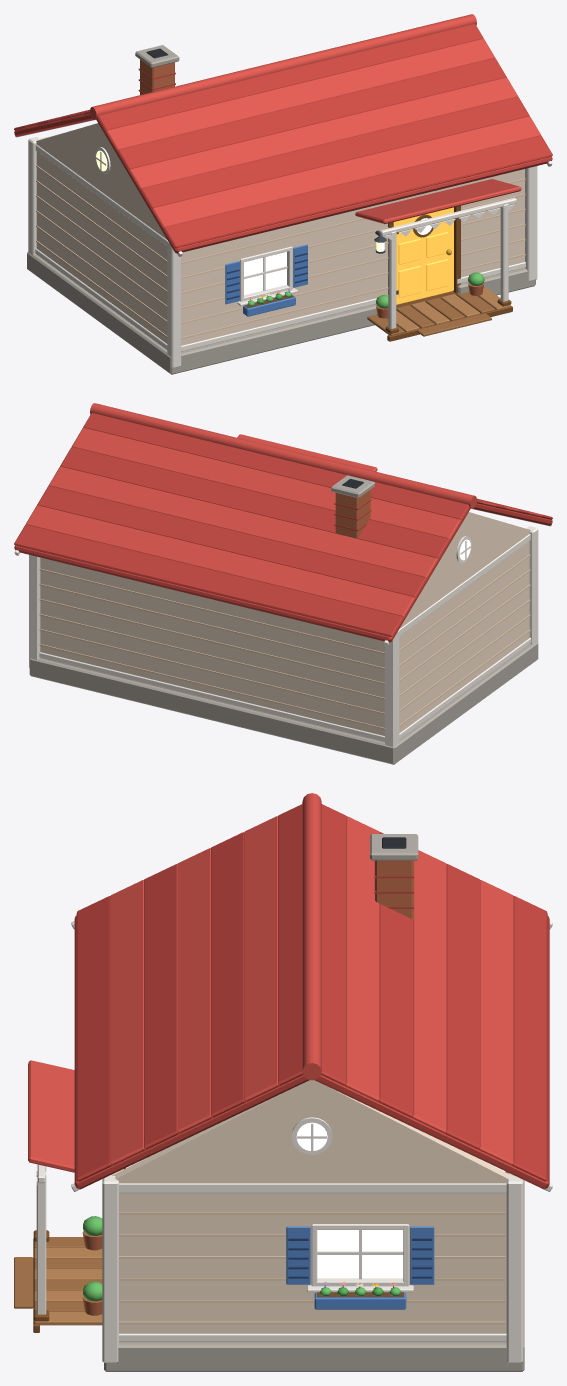
The model's file is casa.glb.
3 views of the same model, one above another, from view 1: azimuth 30°, elevation 25°; view 2: azimuth 150°, elevation 25°; view 3: azimuth 270°, elevation 25° (orthographic). The views are drawn at different scales.
Parts seen in each view (by area): view 1: telhado, revestimento, paredes, varanda, janelas, porta; view 2: telhado, revestimento; view 3: telhado, paredes, revestimento, janelas, varanda.
Part boxes in pixels (box(x1,y1,x2,y2)): telhado: box(14, 14, 552, 256); revestimento: box(27, 133, 537, 374); paredes: box(181, 169, 525, 351); varanda: box(367, 204, 512, 341); janelas: box(225, 244, 307, 316); porta: box(393, 207, 453, 304); telhado: box(14, 403, 552, 645); revestimento: box(29, 526, 538, 764); telhado: box(28, 793, 552, 1191); paredes: box(109, 1168, 506, 1342); revestimento: box(102, 1171, 524, 1371); janelas: box(286, 1224, 434, 1309); varanda: box(14, 1166, 102, 1332).
Size of the model in its own units: 13.22 by 7.6 by 11.16.
